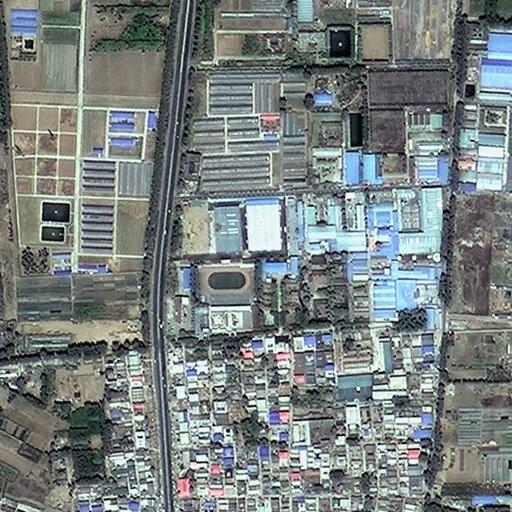school: (189, 261, 257, 333)
